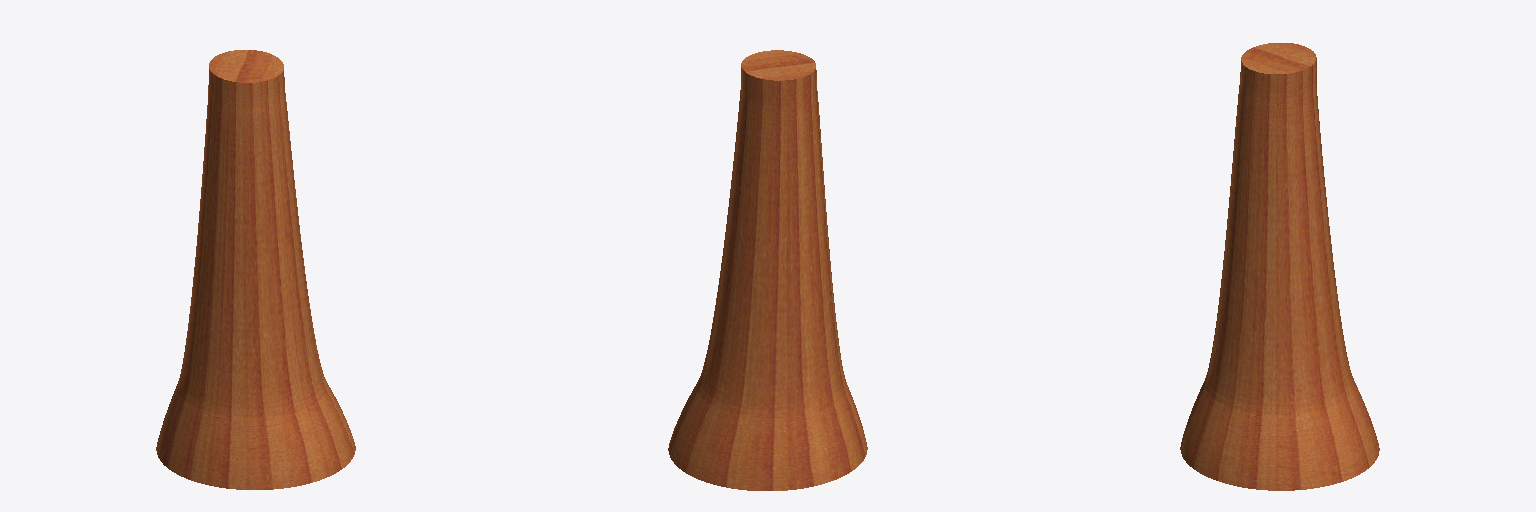
3 renders of one model, left to right at view 1: azimuth 30°, elevation 25°; view 2: azimuth 150°, elevation 25°; view 3: azimuth 270°, elevation 25°, orthographic.
Parts seen in each view (by area): view 1: object_1; view 2: object_1; view 3: object_1.
Part boxes in pixels (bbox=[...]): object_1: bbox=[156, 50, 355, 489]; object_1: bbox=[668, 50, 867, 490]; object_1: bbox=[1180, 43, 1379, 490].
Bounding box in the file's own units: 37.94 × 81.28 × 37.92.
Materials: 1 (1 with a texture image).